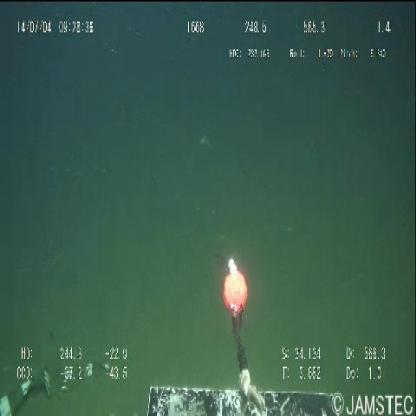Rác: (0, 362, 115, 415)
